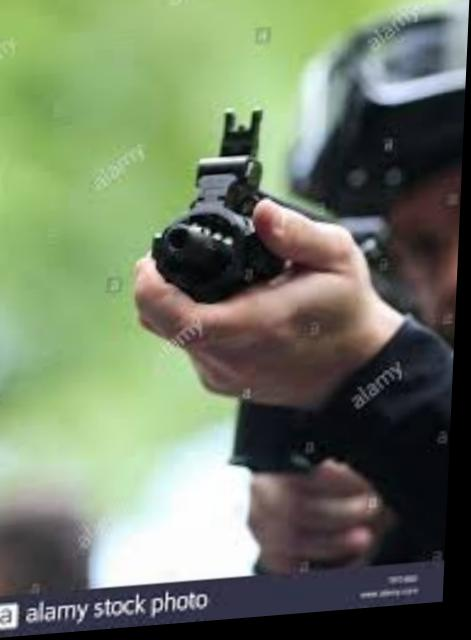other: (123, 20, 468, 576)
